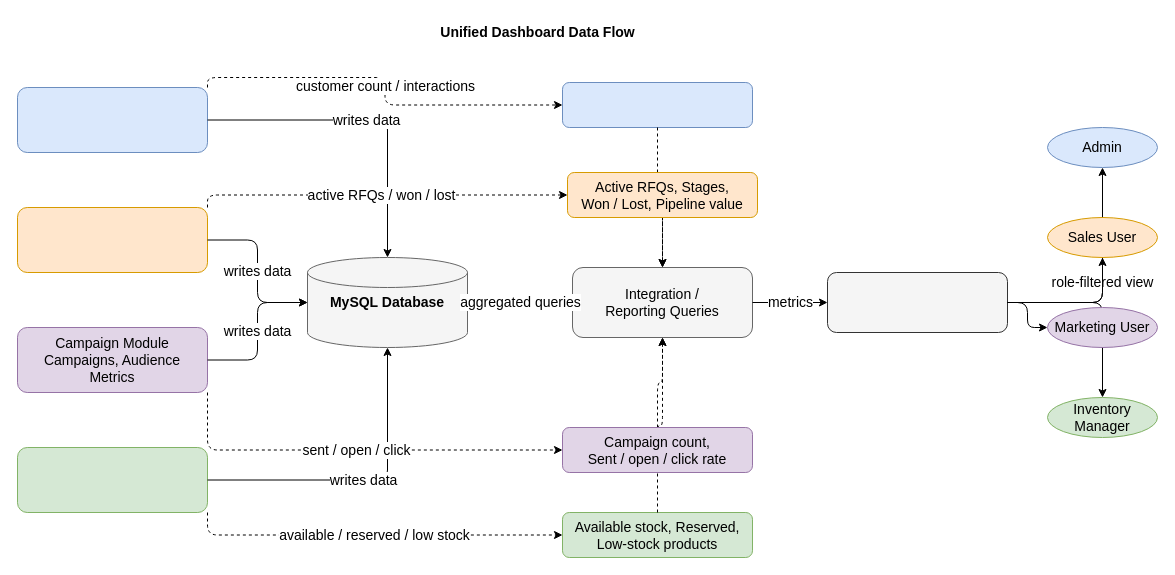
This 1175x575 diagram has some shape labels left out. Each missing label, with the centre of its shape:
"Customer count, Contact count, Recent interactions" goes at point (657, 105).
"Customer Module Accounts, Contacts Interactions" goes at point (112, 119).
"Inventory Module Products, Stock Reservations" goes at point (112, 479).
"RFQ / Pipeline Module RFQs, Quotes, Stages" goes at point (112, 239).
"Unified Dashboard" goes at point (917, 302).
